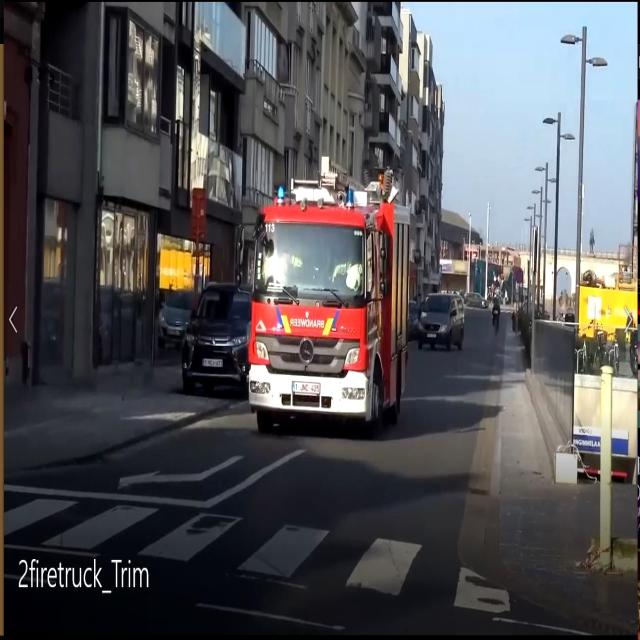emergency: (242, 185, 419, 463)
